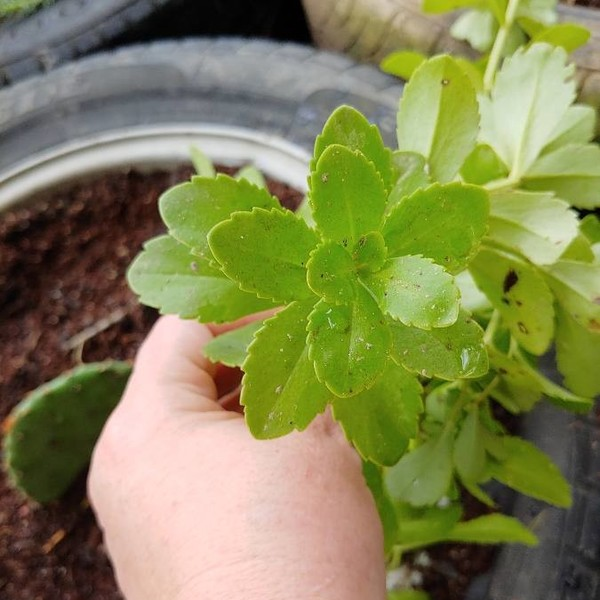obstacle: (163, 24, 533, 515)
